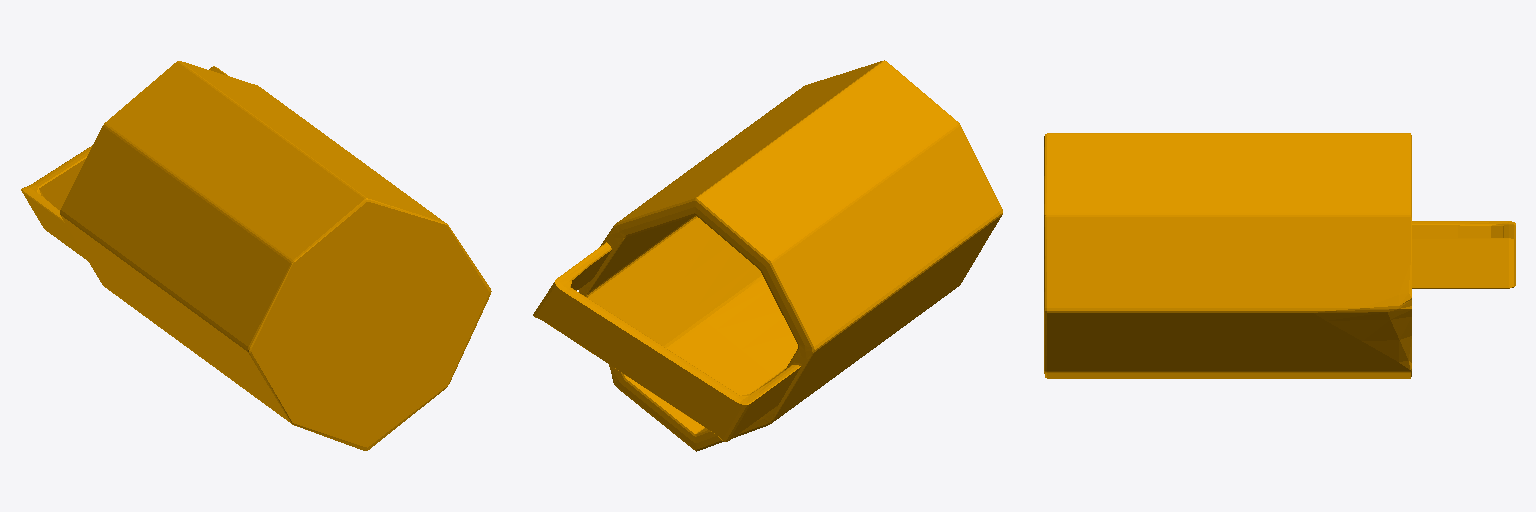
robot.urdf — 141:
<?xml version="1.0" ?>
<robot name="141">
  <link name="body">
    <visual>
      <geometry>
        <mesh filename="../shapes/141.obj"/>
      </geometry>
    </visual>
    <collision>
      <geometry>
        <mesh filename="../shapes/141.obj"/>
      </geometry>
    </collision>
  </link>
</robot>

--- Facts derived from the render (not from the file) ---
3 views of the same robot in one strip: view 1: azimuth 30°, elevation 25°; view 2: azimuth 150°, elevation 25°; view 3: azimuth 270°, elevation 25° (orthographic).
Model 141 with 1 links and 0 joints (none), rooted at body, posed every joint at zero.
Visible links, largest first — view 1: body; view 2: body; view 3: body.
Link boxes in pixels (x1=…): body: x1=21, y1=61, x2=491, y2=450; body: x1=533, y1=60, x2=1002, y2=451; body: x1=1044, y1=133, x2=1515, y2=378.
Bounding box of the posed robot: 3.09 × 5.35 × 3.07 m (x, y, z).
Meshes: 1 distinct files referenced, 1 mesh visuals loaded (1 OBJ).